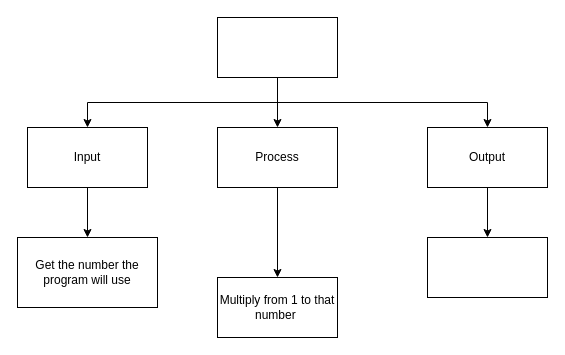
The diagram is 565 pixels wide and 355 high, and some of its shapes have lost their labels. The shapes that lost their labels are listed below. From the top down, each one's centre as x and y in pixels, then its label:
point 277,47: Mutiplying
point 487,267: Show the result product
